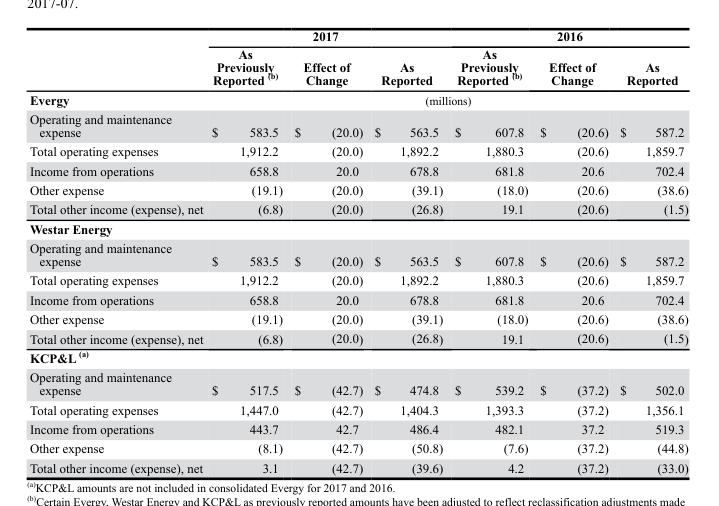table: (28, 28, 687, 474)
table column: (28, 28, 206, 474), (448, 28, 533, 474), (206, 28, 287, 474), (287, 28, 368, 474), (368, 28, 448, 474), (533, 28, 613, 474), (613, 28, 687, 474)
table column header: (28, 28, 687, 89)
table projected row header: (28, 346, 687, 367), (28, 218, 687, 238)
table row: (28, 44, 687, 89), (28, 108, 687, 141), (28, 238, 687, 270), (28, 367, 687, 399), (28, 346, 687, 367), (28, 179, 687, 199), (28, 218, 687, 238), (28, 289, 687, 309), (28, 418, 687, 438), (28, 89, 687, 108), (28, 141, 687, 160), (28, 160, 687, 179), (28, 199, 687, 218), (28, 270, 687, 289), (28, 309, 687, 328), (28, 399, 687, 418), (28, 438, 687, 457), (28, 328, 687, 346), (28, 457, 687, 474), (28, 28, 687, 44)
table spanning cell: (206, 89, 687, 108), (206, 28, 448, 44), (448, 28, 687, 44)
